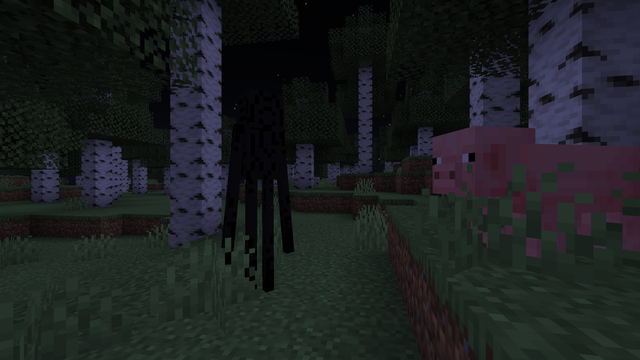cochons: (465, 138, 631, 272)
endermens: (229, 82, 285, 303)
slimes: (435, 147, 446, 154)
